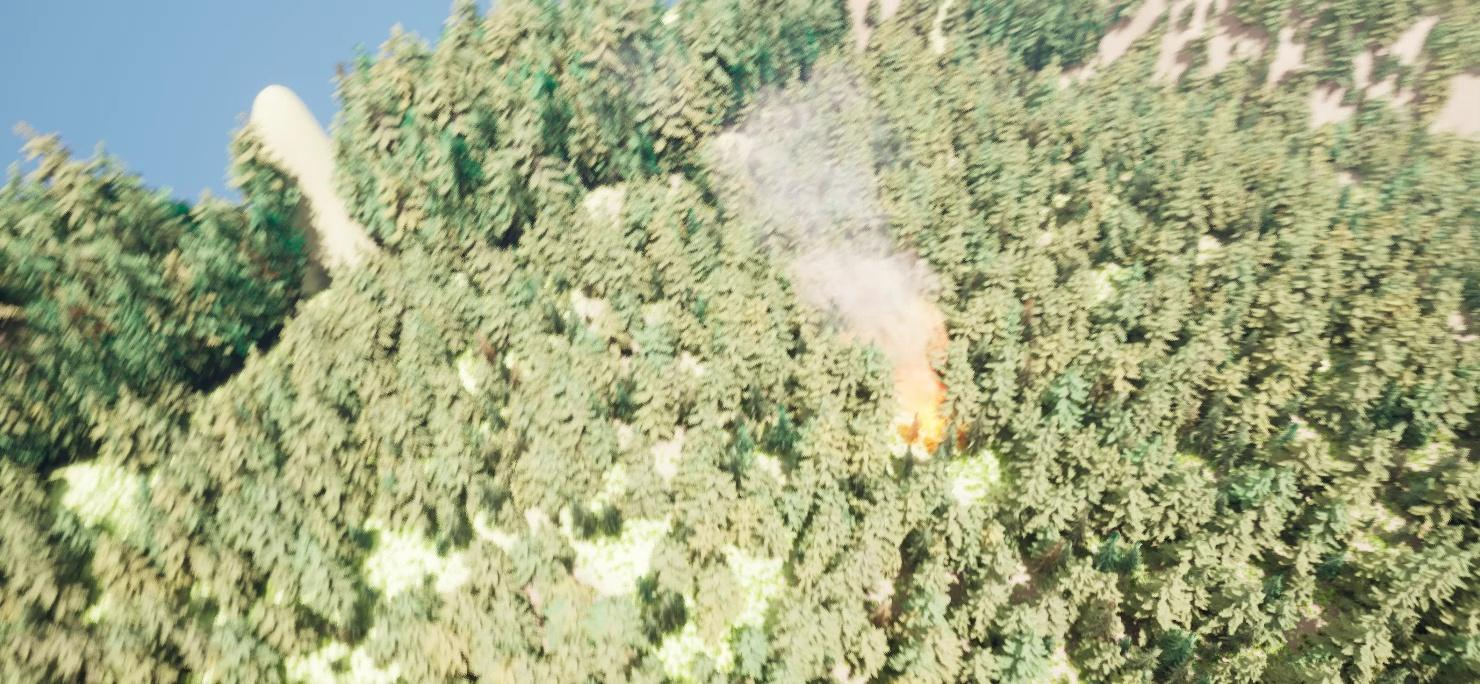fire: (900, 411, 977, 458)
smoke: (695, 68, 947, 406)
